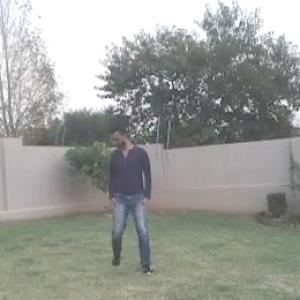follow: (110, 118, 152, 262)
